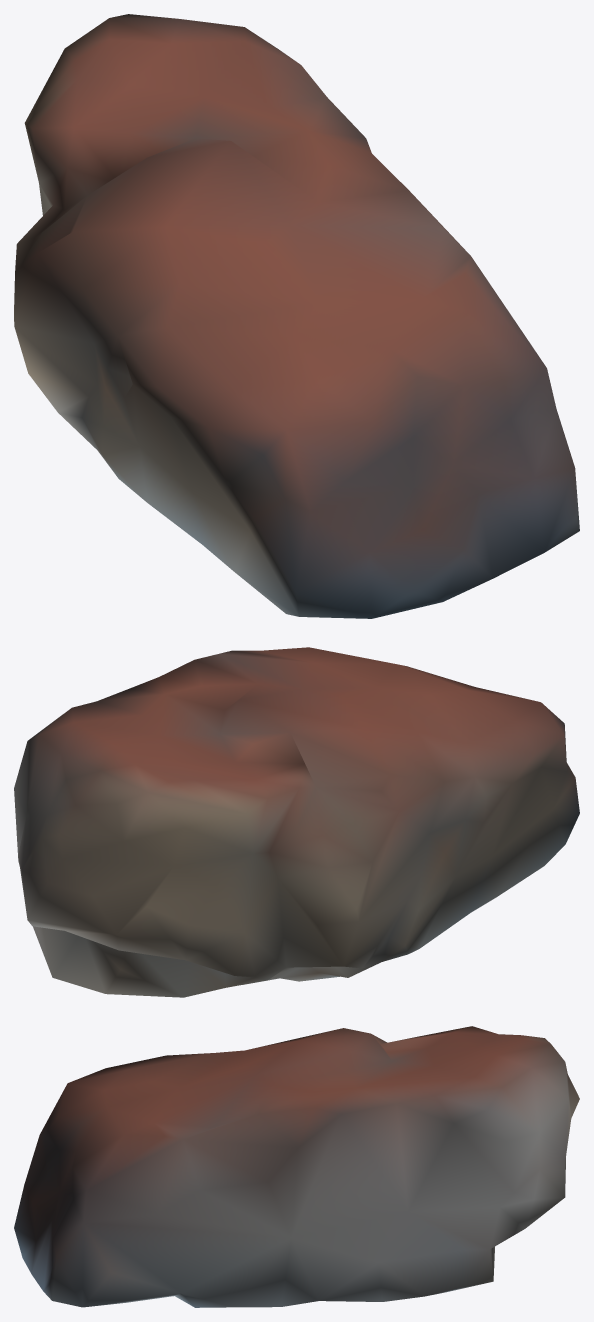
File: Rock_2.glb
3 views of the same model, one above another, from view 1: azimuth 30°, elevation 25°; view 2: azimuth 150°, elevation 25°; view 3: azimuth 270°, elevation 25° (orthographic). The views are drawn at different scales.
Parts seen in each view (by area): view 1: rock_07; view 2: rock_07; view 3: rock_07.
Boxes of the visible parts, bbox=[...] form: rock_07: bbox=[14, 14, 579, 618]; rock_07: bbox=[14, 647, 579, 997]; rock_07: bbox=[14, 1026, 579, 1307].
Size of the model in its own units: 0.1674 by 0.142 by 0.3215.
